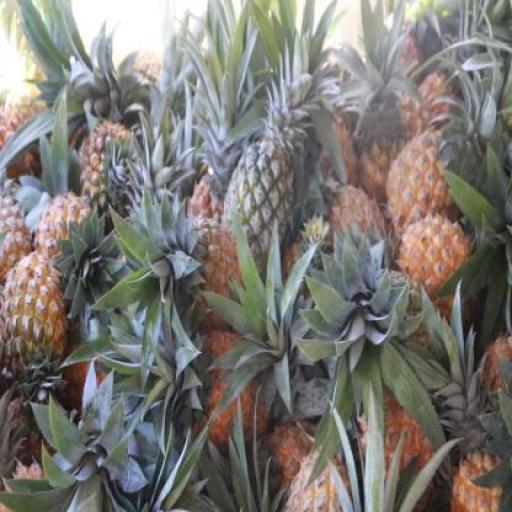Pineapple - v8 v1: (4, 255, 66, 381), (388, 134, 458, 236), (395, 219, 468, 307)
